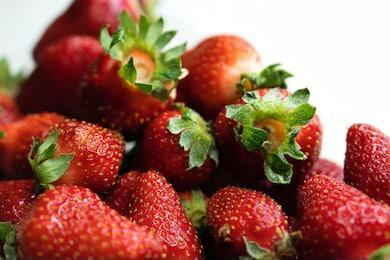Fresa: (211, 81, 329, 191), (13, 181, 170, 260), (101, 163, 206, 260), (293, 171, 390, 260), (34, 112, 128, 198), (202, 181, 293, 260), (131, 108, 217, 189)
